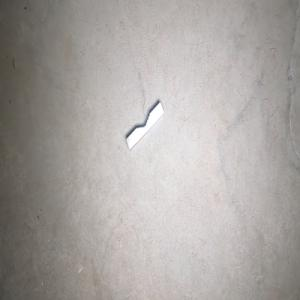ClampPart: (125, 100, 165, 150)
